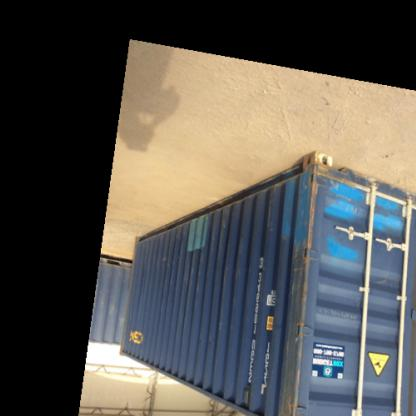Damage: (298, 164, 330, 262), (288, 260, 312, 366), (304, 162, 361, 192)
